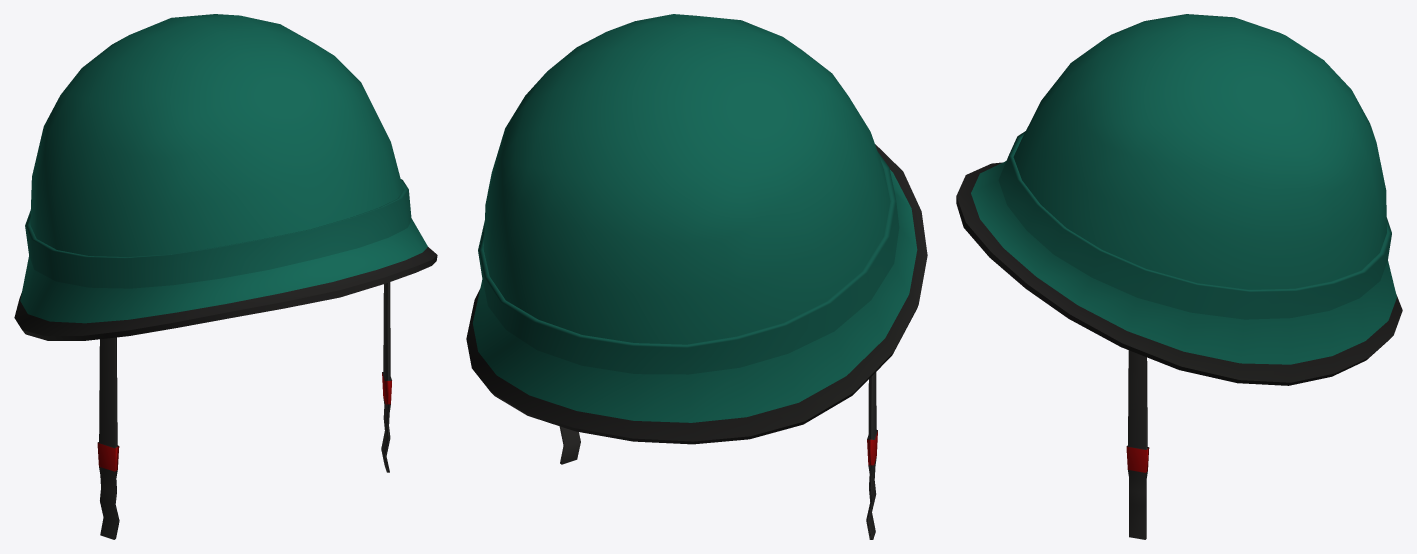
Rendered from mu swat.fbx.
3 views of the same model, side by side, from view 1: azimuth 30°, elevation 25°; view 2: azimuth 150°, elevation 25°; view 3: azimuth 270°, elevation 25° (orthographic). The views are drawn at different scales.
Parts seen in each view (by area): view 1: mu_swat; view 2: mu_swat; view 3: mu_swat.
Boxes of the visible parts, x1,y1,x2,y2 form: mu_swat: [14, 14, 437, 539]; mu_swat: [466, 14, 927, 539]; mu_swat: [956, 14, 1402, 539].
Size of the model in its own units: 137 by 162 by 149.
